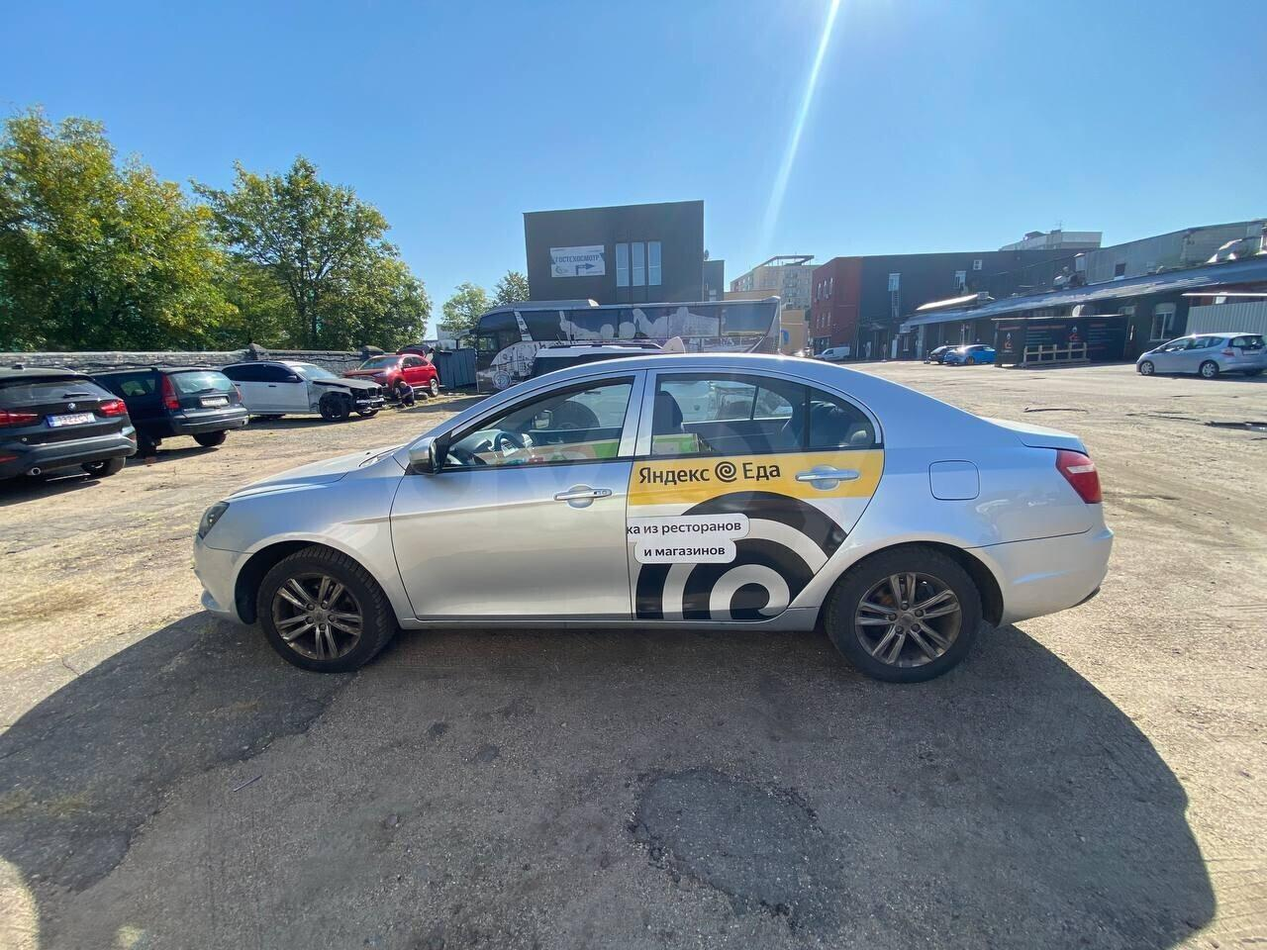Emgrand_2019-2021: (186, 350, 1108, 684)
